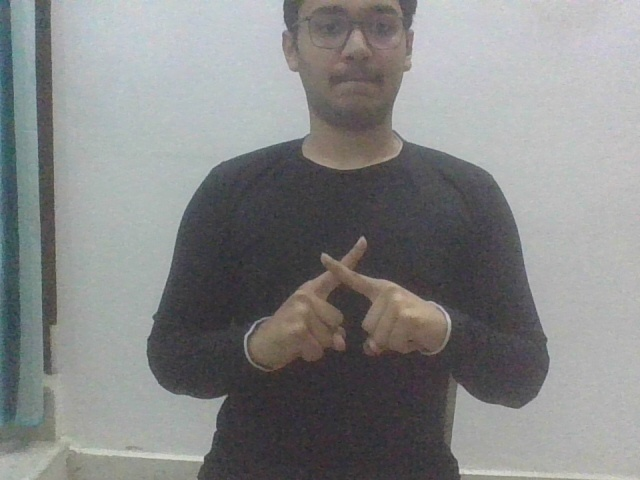X: (267, 230, 430, 372)
